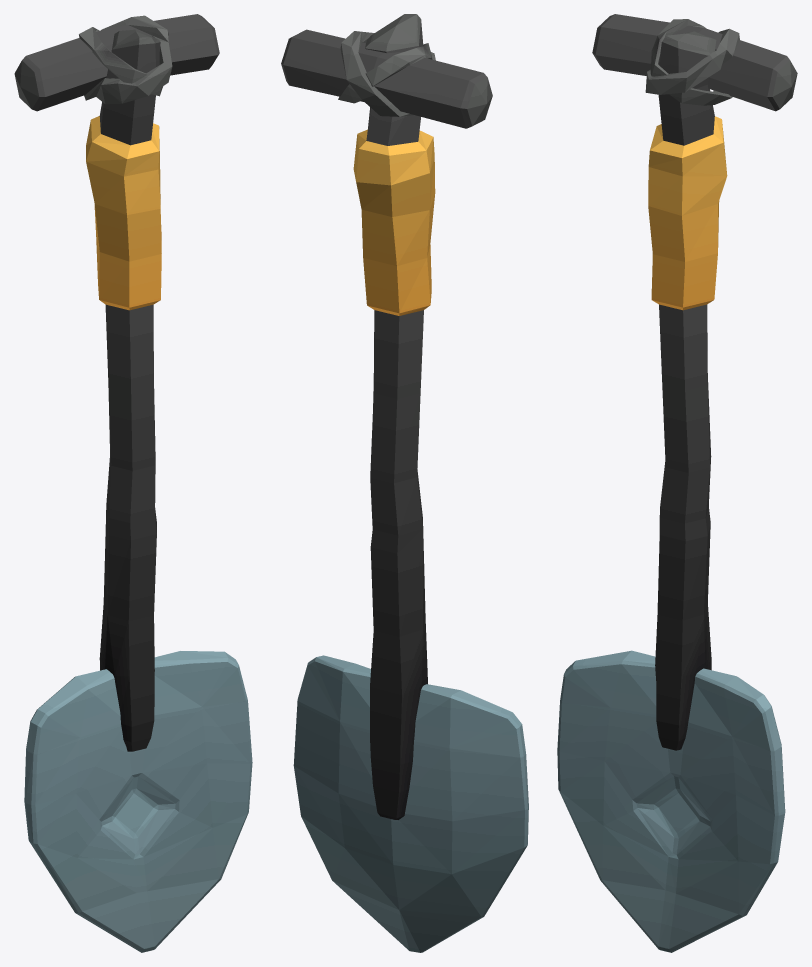
Rendered from CharSkyKid_Prop_TreasureShovel.glb.
3 renders of one model, left to right at view 1: azimuth 30°, elevation 25°; view 2: azimuth 150°, elevation 25°; view 3: azimuth 330°, elevation 25°, orthographic. The views are drawn at different scales.
Parts seen in each view (by area): view 1: CharSkyKid_Prop_TreasureShovel; view 2: CharSkyKid_Prop_TreasureShovel; view 3: CharSkyKid_Prop_TreasureShovel.
Part boxes in pixels (left/top/right/bottom): CharSkyKid_Prop_TreasureShovel: left=14, top=14, right=252, bottom=952; CharSkyKid_Prop_TreasureShovel: left=281, top=14, right=528, bottom=952; CharSkyKid_Prop_TreasureShovel: left=557, top=14, right=797, bottom=952.
Size of the model in its own units: 2.55 by 9.81 by 1.07.
Materials: 1 (1 with a texture image).
